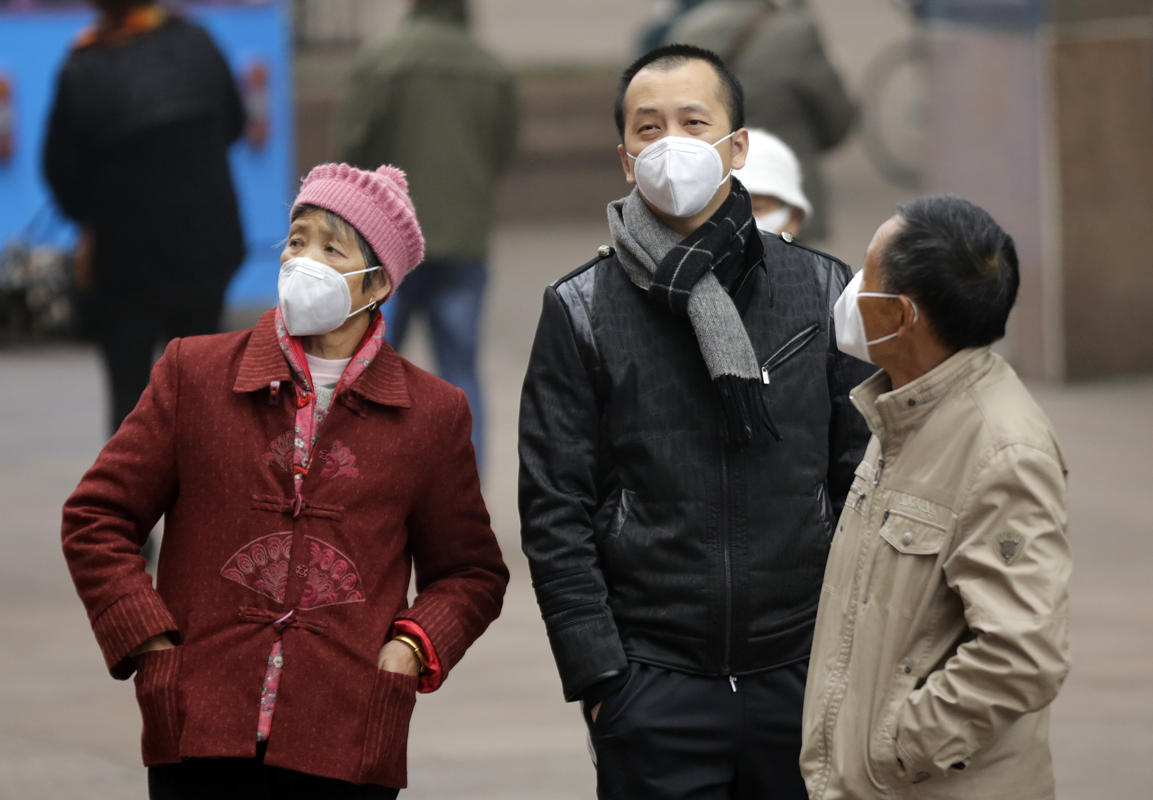mask: (272, 250, 393, 340), (621, 137, 738, 218), (830, 268, 921, 362)
